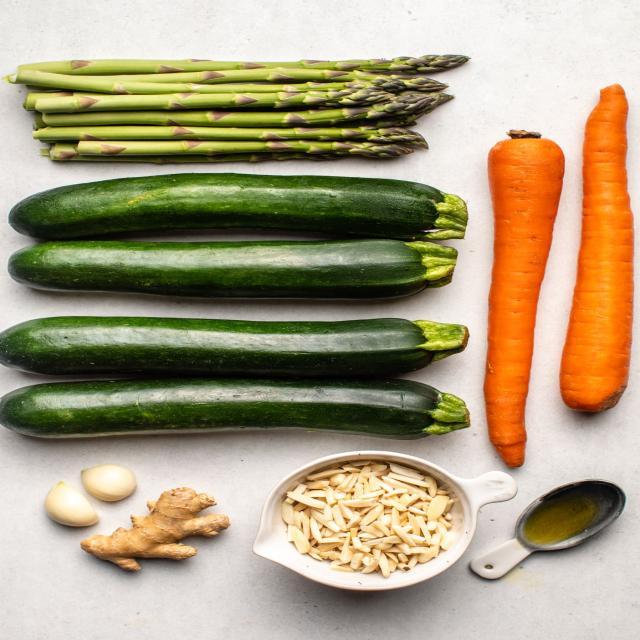Zucchini: (6, 377, 480, 444), (7, 313, 469, 373)
